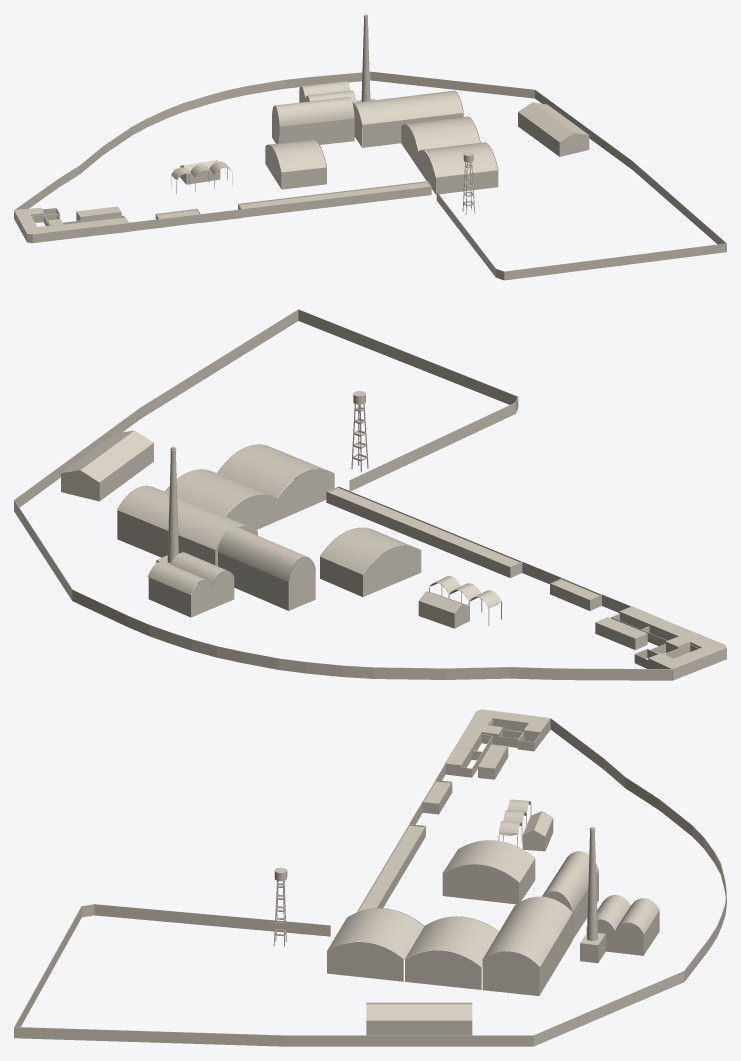
File: M09 Arcanco.glb
The picture shows the model from 3 angles, top to bottom: view 1: azimuth 30°, elevation 25°; view 2: azimuth 150°, elevation 25°; view 3: azimuth 270°, elevation 25°; orthographic projection. The views are drawn at different scales.
Visible parts, largest first — view 1: M09 Arcanco; view 2: M09 Arcanco; view 3: M09 Arcanco.
Boxes of the visible parts, left/top/right/bottom form: M09 Arcanco: left=14, top=14, right=726, bottom=280; M09 Arcanco: left=14, top=309, right=726, bottom=680; M09 Arcanco: left=14, top=709, right=726, bottom=1046.
Size of the model in its own units: 189 by 34.86 by 175.
